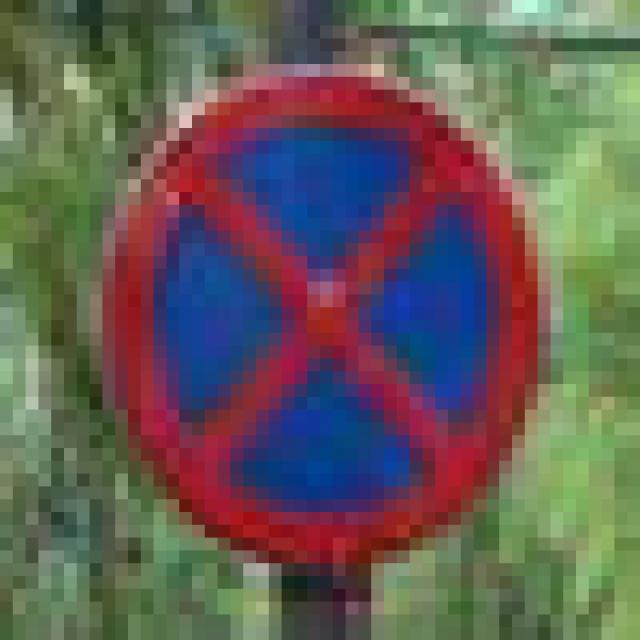no_parking: (90, 52, 538, 550)
